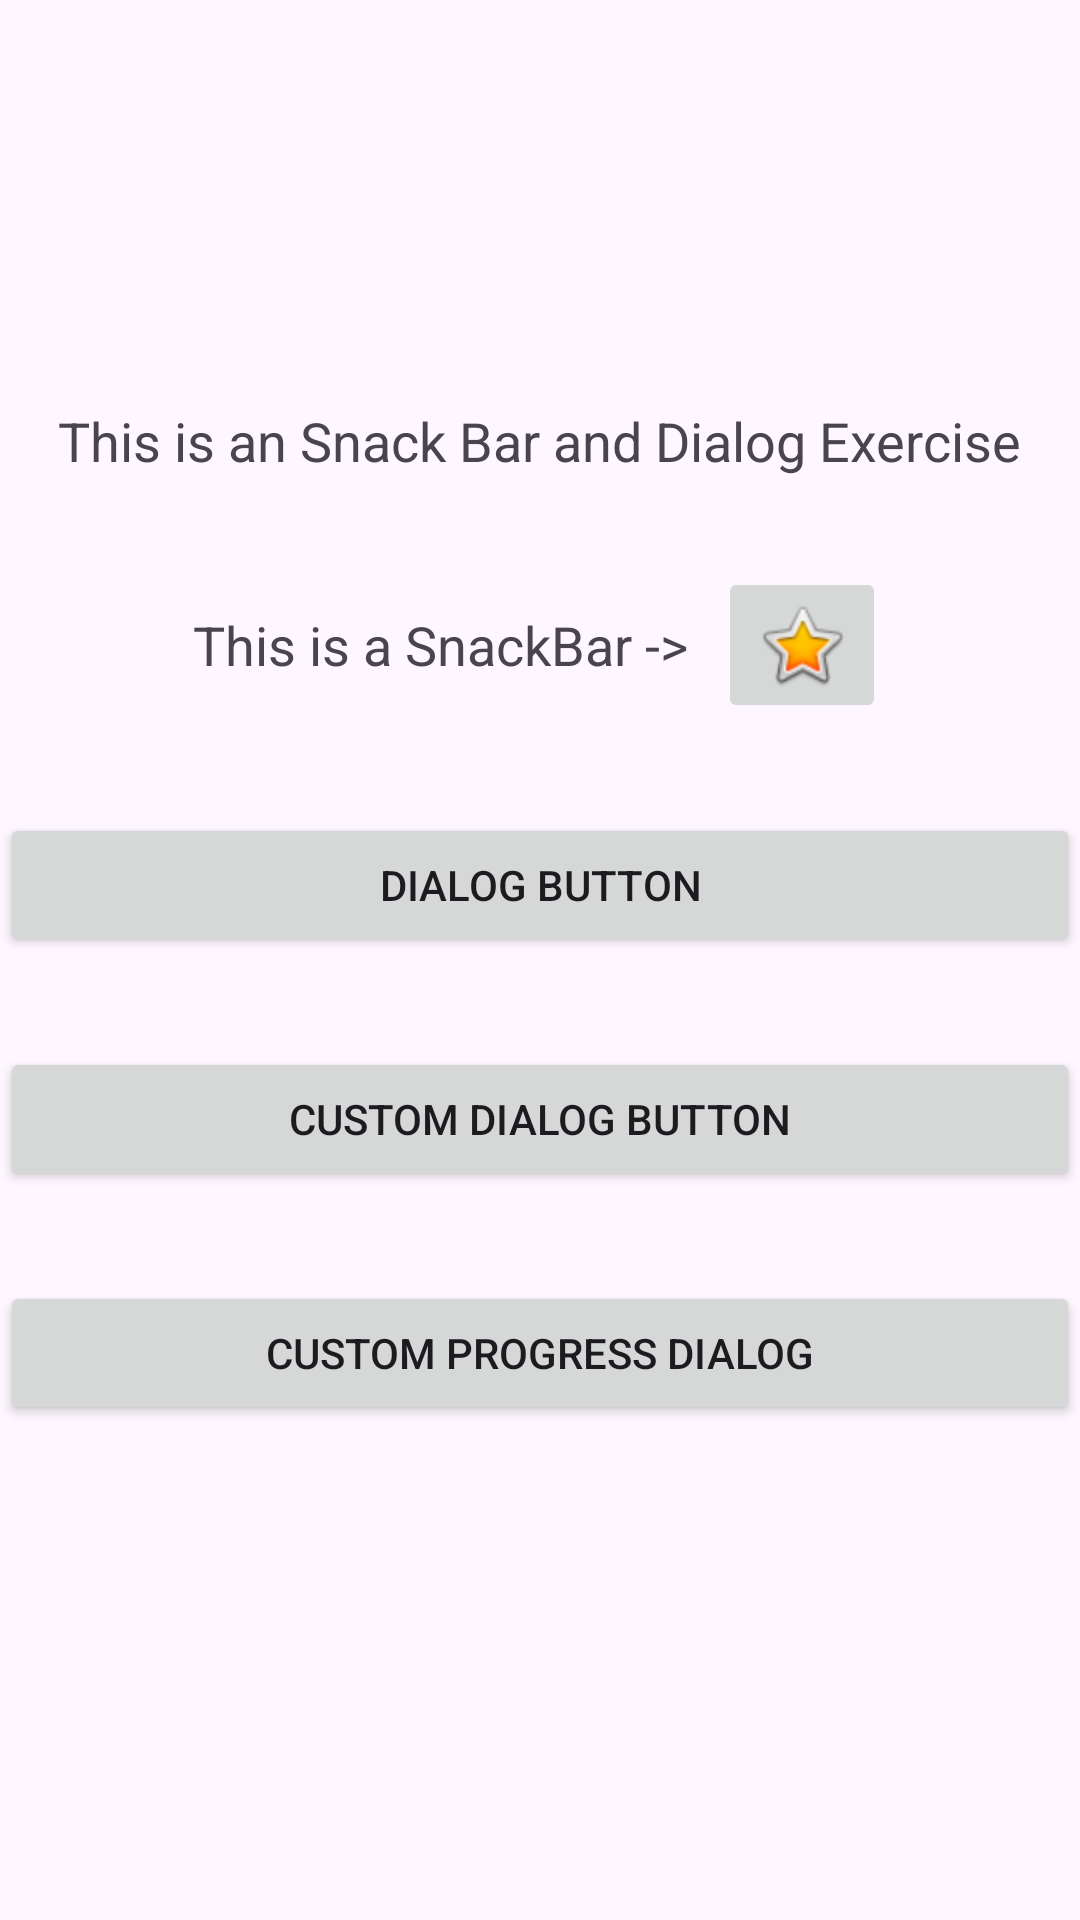

Where icons sit on this 1080 × 1920 app screen, as (x1, y1, x2, y2):
star on: (730, 585, 874, 705)
